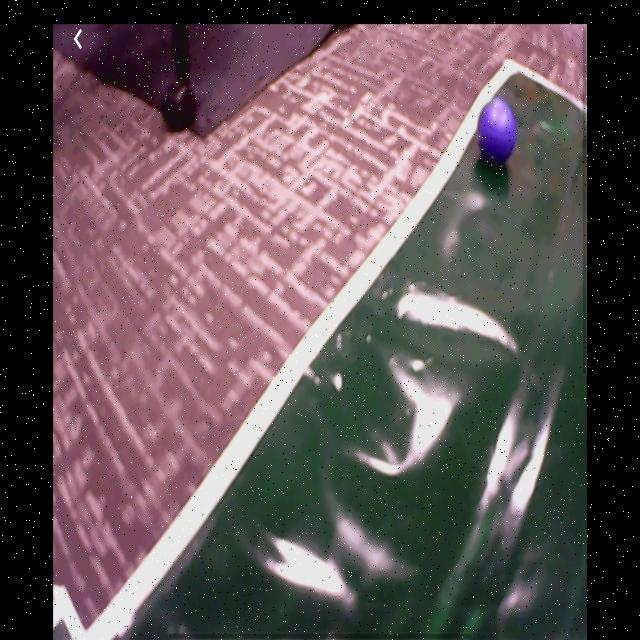ball: (478, 104, 518, 165)
